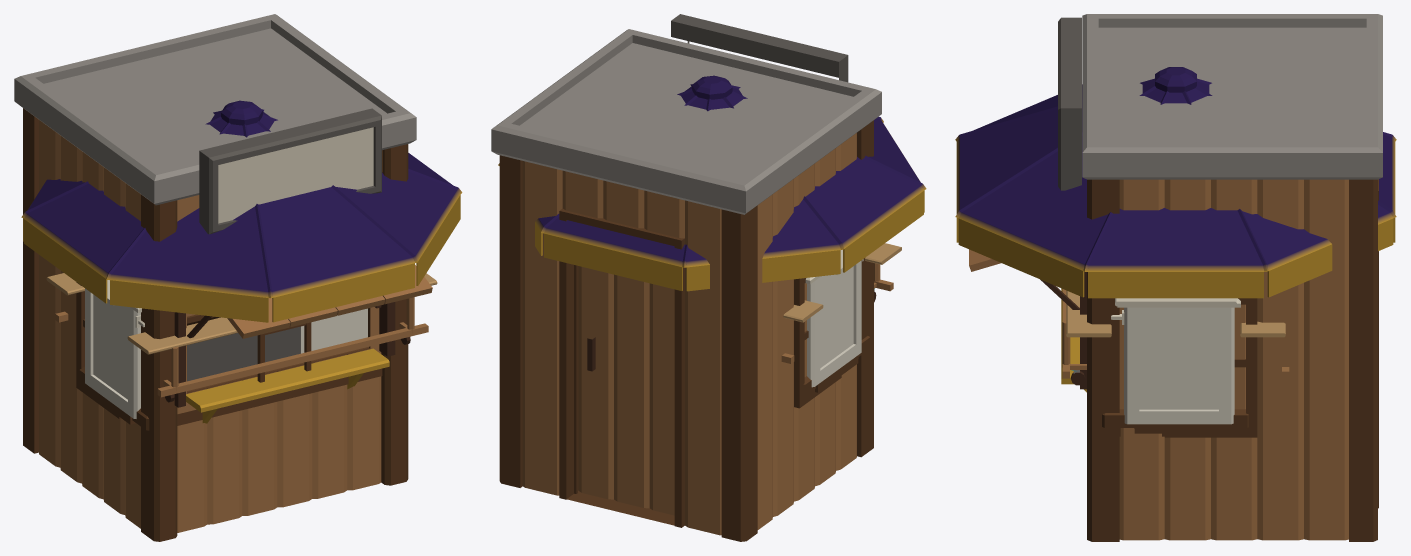
File: caf-kit.glb
3 views of the same model, side by side, from view 1: azimuth 30°, elevation 25°; view 2: azimuth 150°, elevation 25°; view 3: azimuth 270°, elevation 25° (orthographic). The views are drawn at different scales.
Parts seen in each view (by area): view 1: kiosk-shell, parasol-body, counter (×2), frame, table-and-chairs; view 2: kiosk-shell, parasol-body, counter, frame; view 3: kiosk-shell, parasol-body, counter (×2), frame.
Boxes of the visible parts, x1,y1,x2,y2 form: kiosk-shell: [14, 14, 432, 541]; parasol-body: [21, 100, 462, 322]; counter (×2): [79, 288, 382, 430]; frame: [46, 273, 437, 402]; table-and-chairs: [257, 322, 311, 382]; kiosk-shell: [491, 14, 881, 541]; parasol-body: [498, 75, 926, 291]; counter: [805, 259, 863, 392]; frame: [781, 243, 901, 363]; kiosk-shell: [969, 14, 1382, 541]; parasol-body: [955, 67, 1396, 298]; counter (×2): [1102, 298, 1248, 436]; frame: [1062, 289, 1289, 385].
Bounding box in the file's own units: 88982 × 91748 × 88982.
